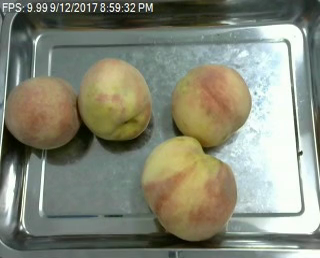Peach: (141, 134, 237, 243), (167, 63, 250, 148), (78, 58, 152, 141), (4, 75, 80, 149)
